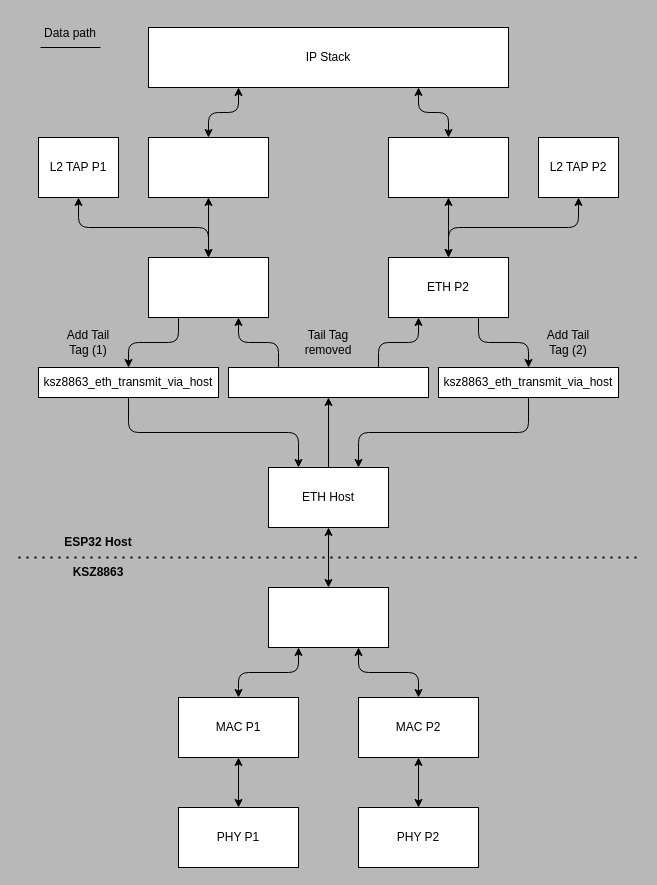
Some shapes in this 657 by 885 pixel diagram are drawn without their labels. The centre of each missing label's shape, as x and y in pixels:
"ESP-NETIF P1" belongs at (208,167).
"ESP-NETIF P2" belongs at (448,167).
"ETH P1" belongs at (208,287).
"ksz8863_eth_tail_tag_port_forward" belongs at (328,382).
"MAC P3" belongs at (328,617).
